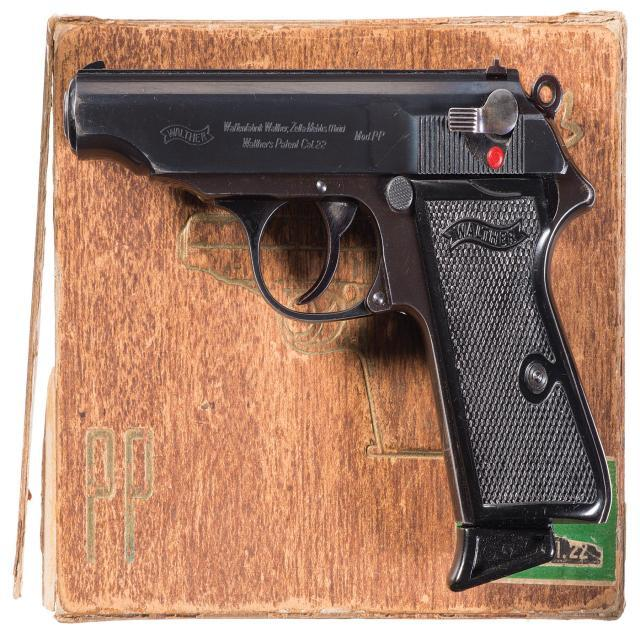Pistol: (61, 30, 640, 614)
